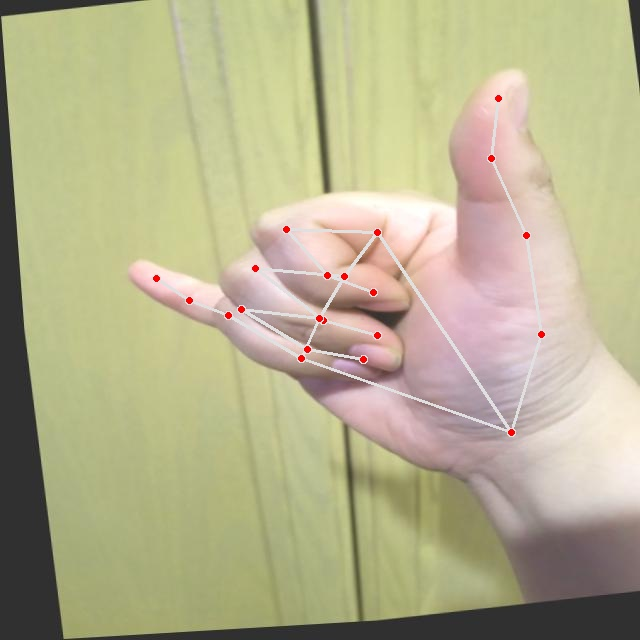Y: (98, 59, 614, 523)
